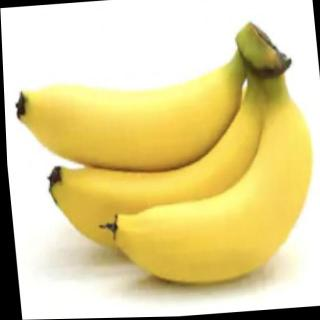banana: (84, 100, 320, 294), (36, 96, 294, 263), (10, 61, 249, 185)
